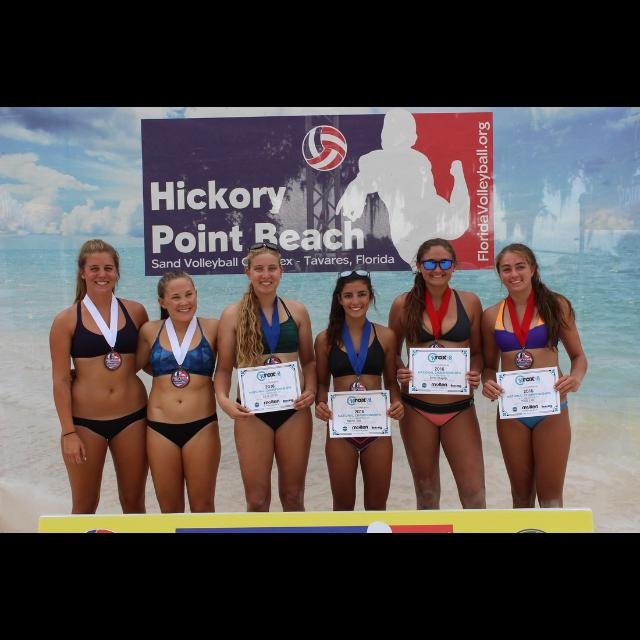head: (158, 270, 198, 324), (416, 238, 458, 288), (496, 244, 538, 294), (79, 241, 117, 295), (245, 247, 285, 296), (337, 273, 375, 319)
